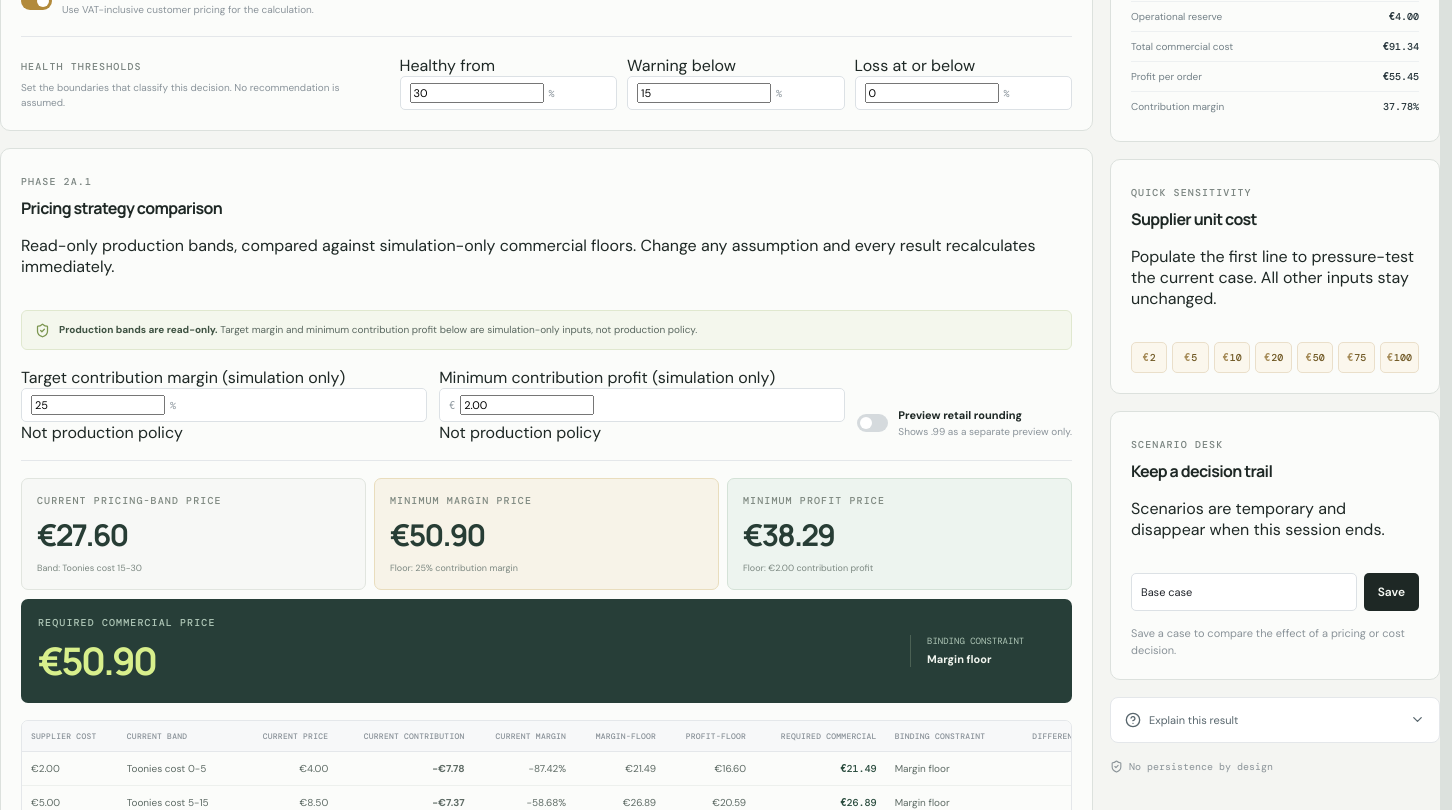
CommercialProfitSimulatorPage › recalculates targets immediately and keeps retail .99 as a separate preview
This screenshot has width=1452, height=810.
(page scrolled)
Expected: the text "Required commercial price" is shown, [38, 616, 216, 629]
Replace the text in the field labelled "Target contribution margin (simulation only)" with "50": (98, 405) [31, 395, 165, 415]
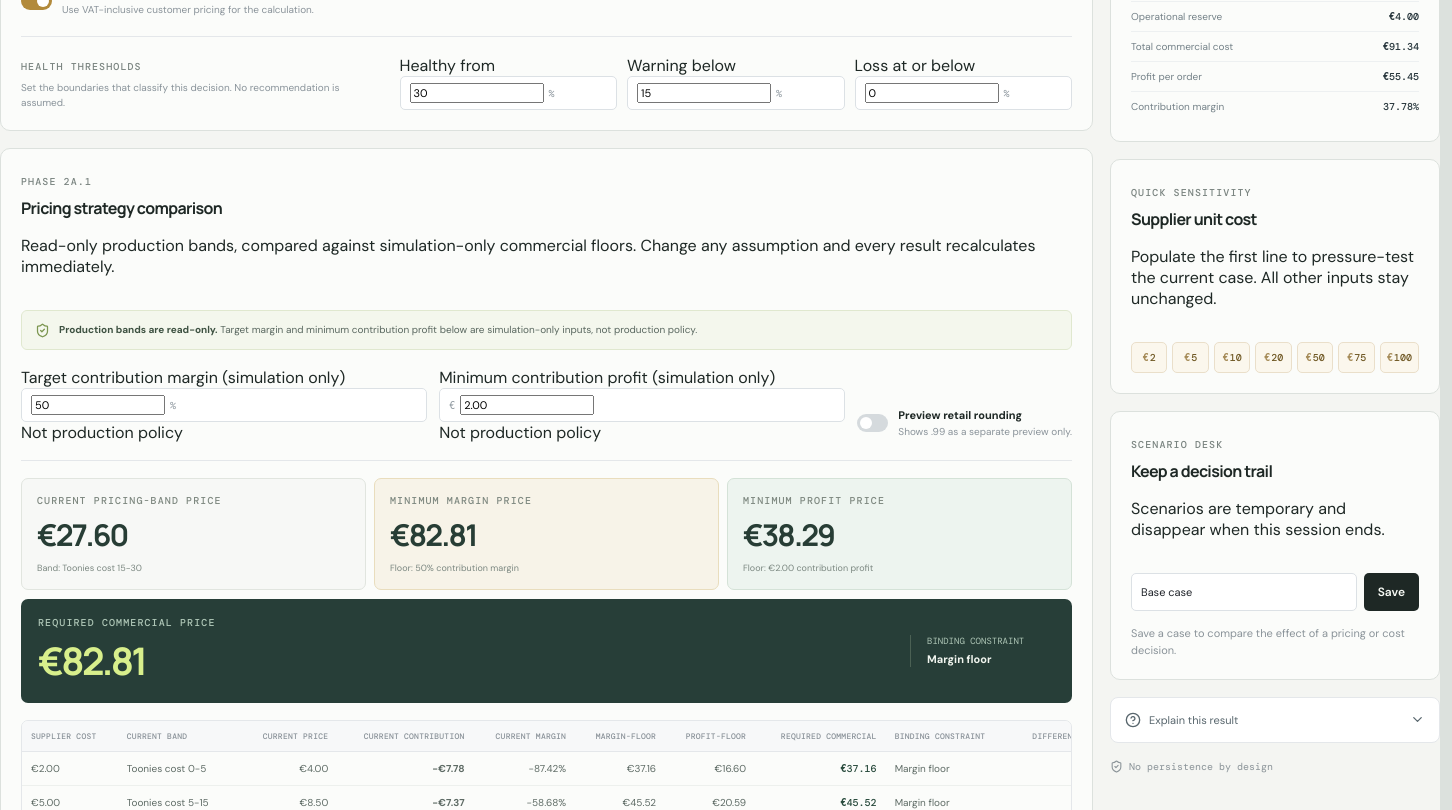
Click the text "Preview retail rounding": click(960, 415) [898, 408, 1022, 422]
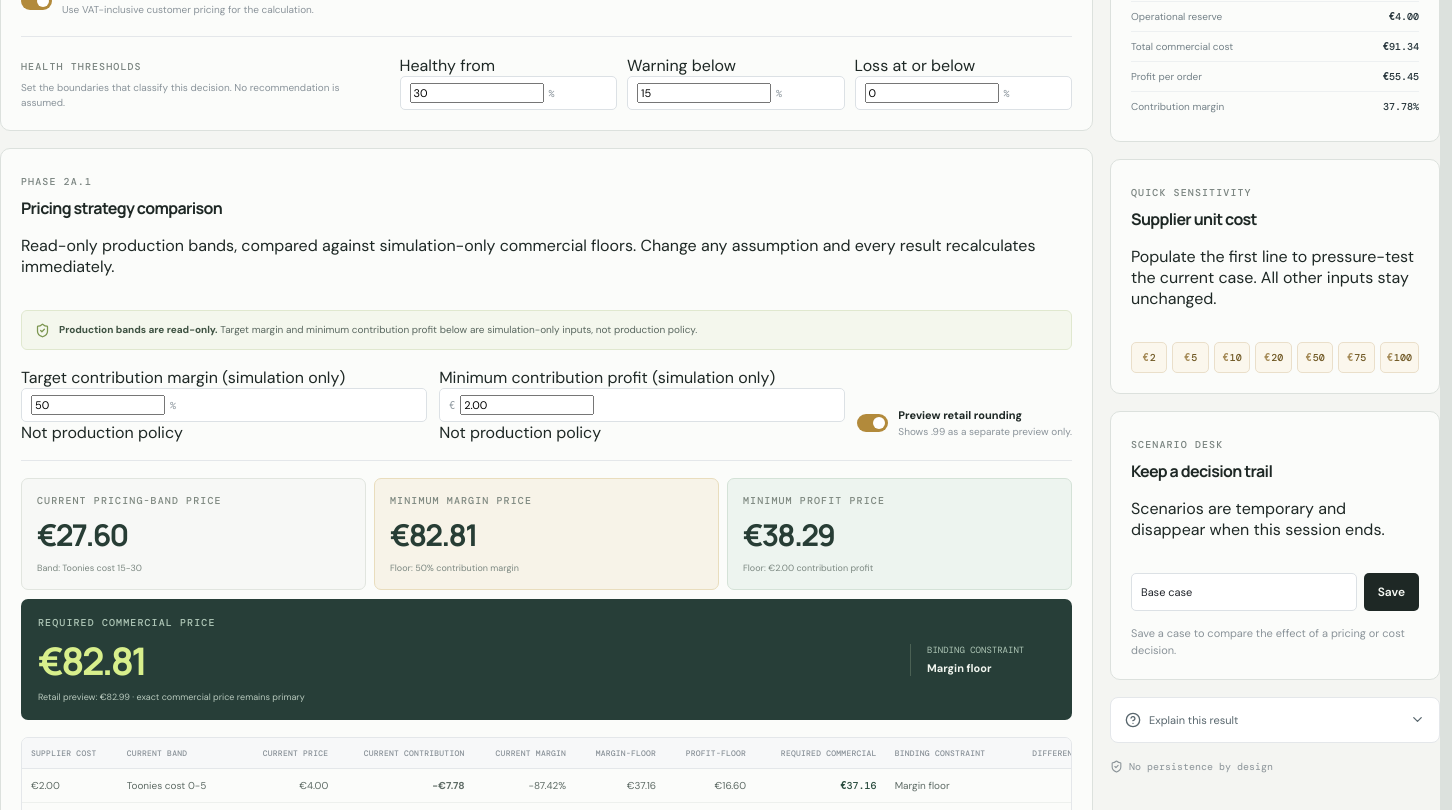
Expected: the text "Retail preview:" is shown, [38, 691, 100, 703]
Expected: the text "exact commercial price remains primary" is shown, [130, 691, 305, 703]
